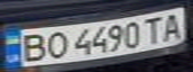0: (121, 19, 145, 48)
4: (90, 24, 112, 55), (72, 25, 93, 56)
9: (106, 21, 127, 52)
A: (157, 10, 187, 42)
B: (15, 32, 51, 63)
O: (42, 29, 69, 60)
T: (139, 14, 169, 44)
